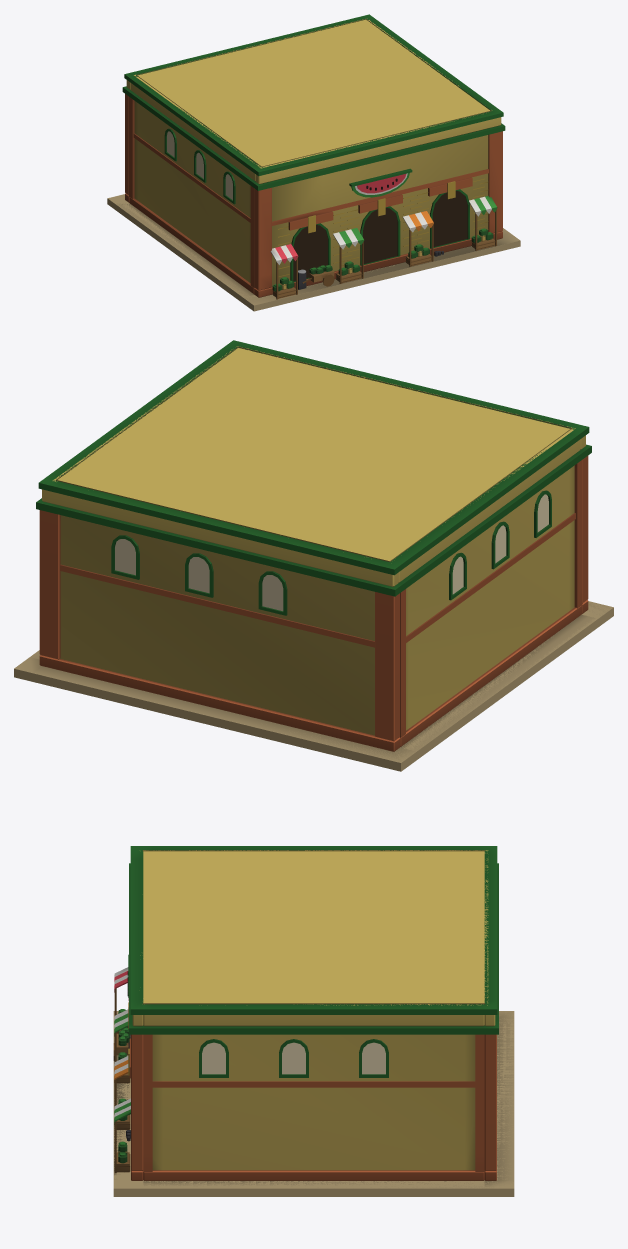
File: MelonArmadilloFloor.fbx
The picture shows the model from 3 angles, top to bottom: view 1: azimuth 30°, elevation 25°; view 2: azimuth 150°, elevation 25°; view 3: azimuth 270°, elevation 25°; orthographic projection. The views are drawn at different scales.
Parts seen in each view (by area): view 1: ME_F_Rings, ME_S_All, ME_F_Smooth, ME_F_Glass, ME_F_Quiet, ME_F_Props; view 2: ME_F_Rings, ME_S_All, ME_F_Smooth, ME_F_Quiet, ME_F_Glass; view 3: ME_S_All, ME_F_Rings, ME_F_Smooth, ME_F_Quiet, ME_F_Glass, ME_F_Props.
Part boxes in pixels (x1,y1,x2,y2): ME_F_Rings: [123, 14, 504, 297]; ME_S_All: [107, 18, 520, 311]; ME_F_Smooth: [122, 74, 505, 299]; ME_F_Glass: [167, 131, 467, 281]; ME_F_Quiet: [114, 181, 519, 305]; ME_F_Props: [271, 196, 496, 298]; ME_F_Rings: [36, 340, 591, 751]; ME_S_All: [14, 346, 613, 771]; ME_F_Smooth: [36, 427, 591, 751]; ME_F_Quiet: [14, 601, 612, 762]; ME_F_Glass: [115, 494, 548, 611]; ME_S_All: [113, 850, 514, 1196]; ME_F_Rings: [129, 846, 498, 1180]; ME_F_Smooth: [113, 954, 498, 1180]; ME_F_Quiet: [114, 1011, 513, 1188]; ME_F_Glass: [202, 1042, 385, 1074]; ME_F_Props: [114, 967, 130, 1172].
Bounding box in the file's own units: 60 × 20 × 60.
